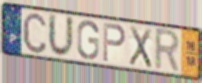C: (21, 11, 48, 56)
G: (76, 20, 100, 62)
P: (102, 21, 127, 64)
R: (153, 27, 182, 75)
U: (47, 12, 76, 60)
X: (128, 24, 153, 71)
